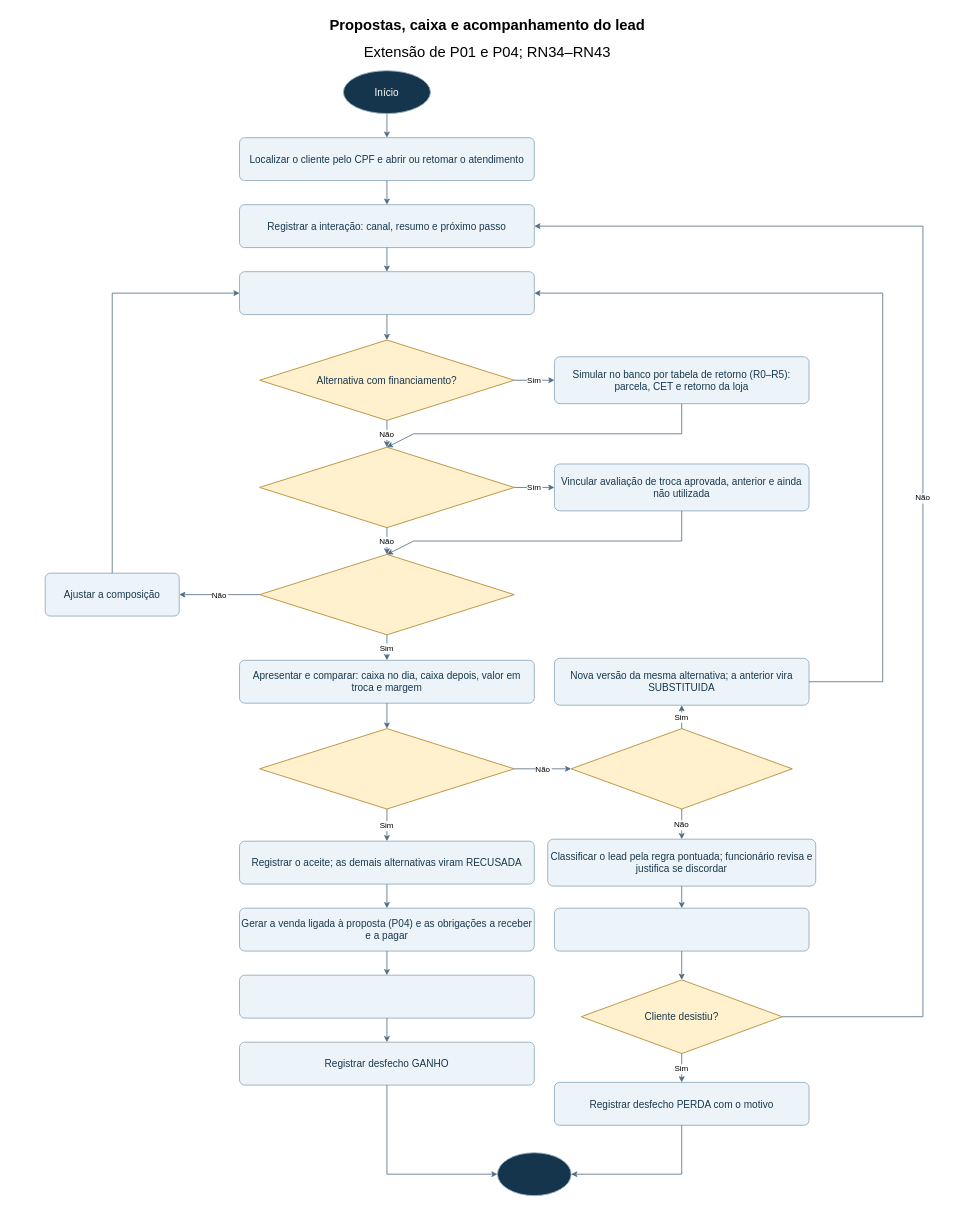
Some shapes in this 974 by 1207 pixel diagram are drawn without their labels. Here are the shapes that lost their labels. From the top down, the centre of each, then its label:
At point (386, 293): "Montar as alternativas A, B e C para a mesma entrada (rascunho)".
At point (386, 487): "Alternativa com veículo na troca?".
At point (386, 594): "Condições + trocas = valor total?".
At point (386, 768): "Cliente aceitou uma alternativa?".
At point (681, 768): "Pediu contraproposta?".
At point (681, 929): "Programar o próximo passo na fila de ações".
At point (386, 996): "Atualizar a previsão semanal de caixa por cenário".
At point (534, 1174): "Fim".
